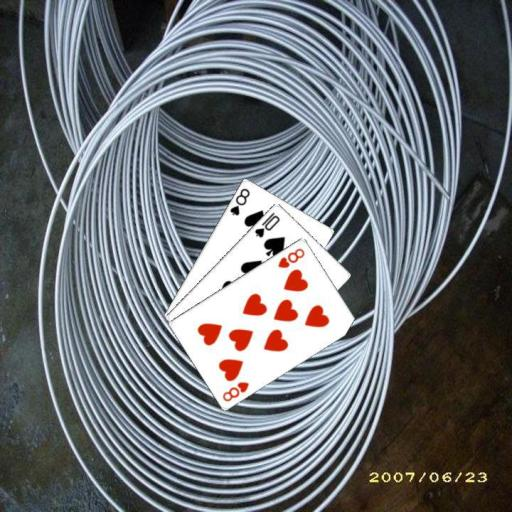10S: (251, 208, 282, 239)
8H: (275, 245, 307, 270), (219, 379, 250, 403)
8S: (226, 185, 251, 217)
